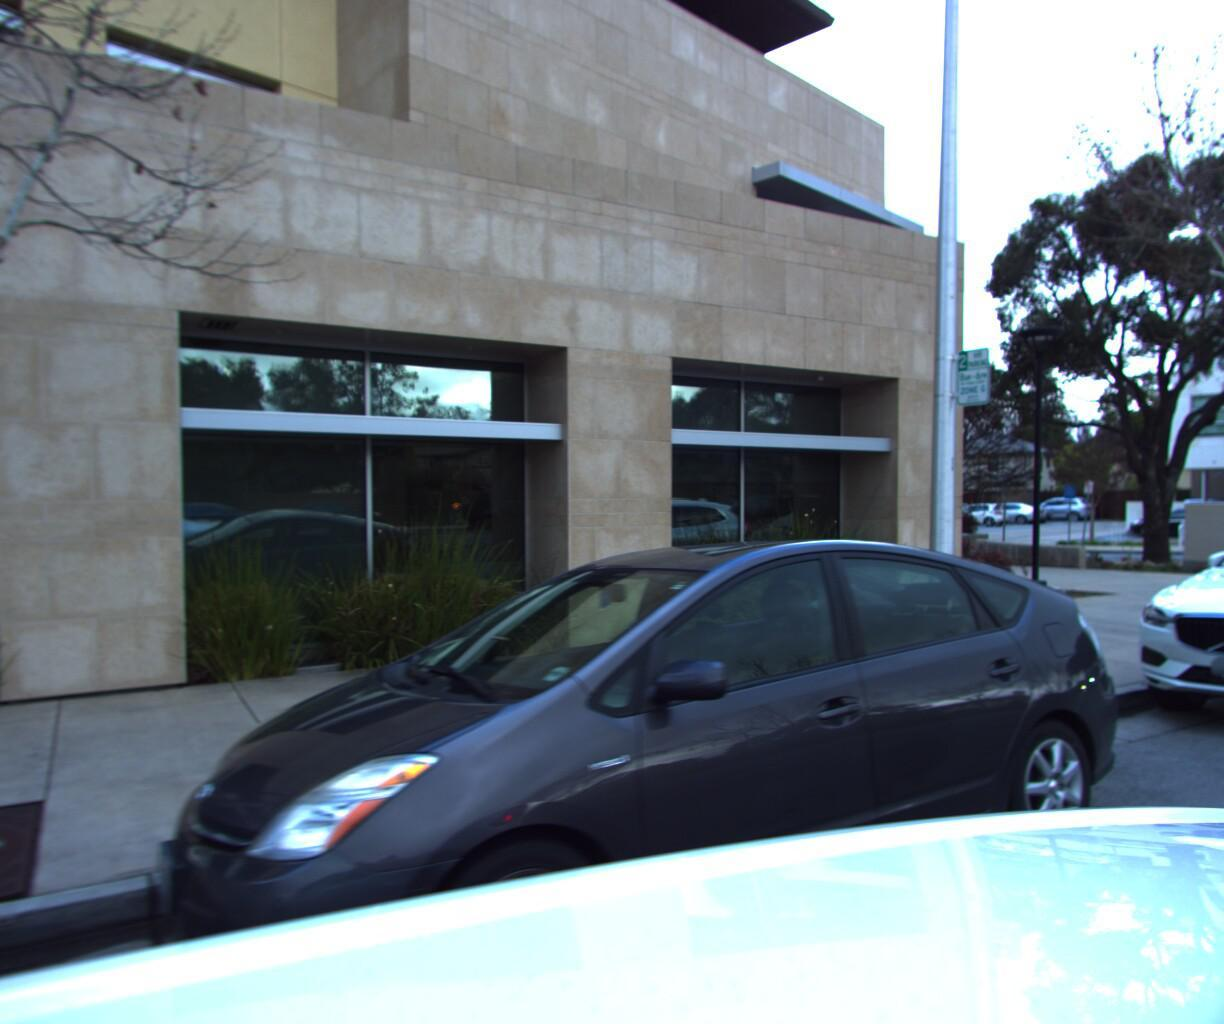car: (123, 517, 1175, 1024), (1139, 490, 1224, 771), (677, 501, 809, 554)
